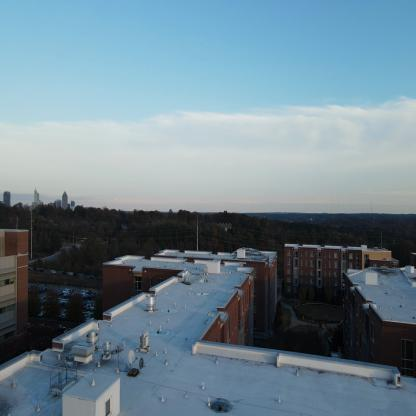Wolf Ridge: (92, 240, 278, 396), (284, 238, 402, 317)
